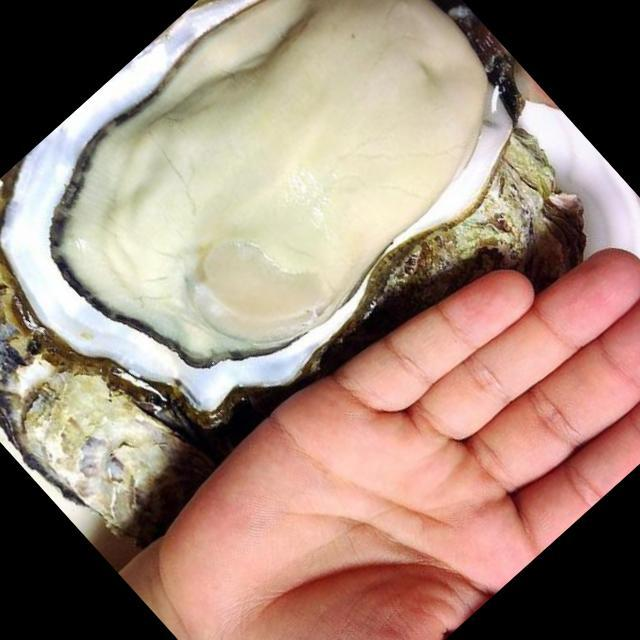Oyster- Indeterminate: (0, 259, 214, 545)
Oyster-Open: (0, 0, 543, 415)
